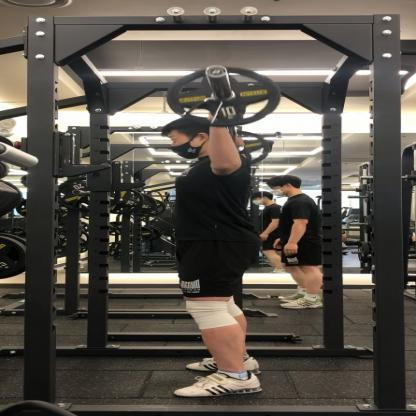Barbell: (206, 65, 231, 80)
